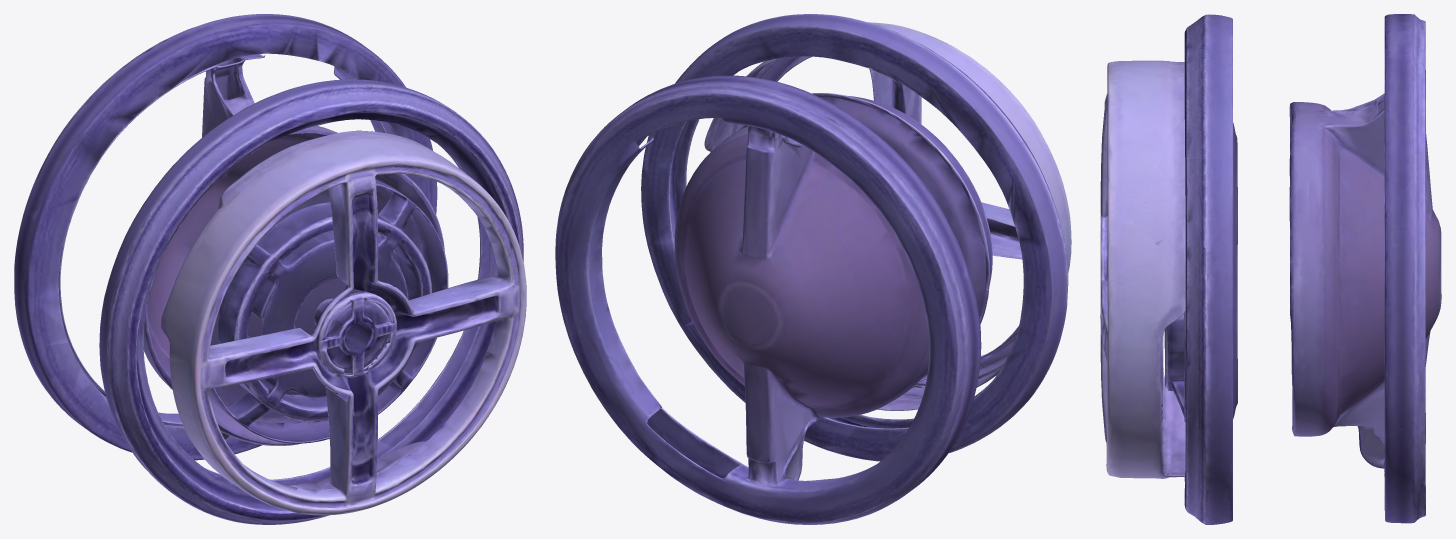
The model's file is button-feel-purple.glb.
The picture shows the model from 3 angles, left to right: view 1: azimuth 30°, elevation 25°; view 2: azimuth 150°, elevation 25°; view 3: azimuth 270°, elevation 25°; orthographic projection. The views are drawn at different scales.
Size of the model in its own units: 1.06 by 1.04 by 0.6968.
Materials: 1 (1 with a texture image).
